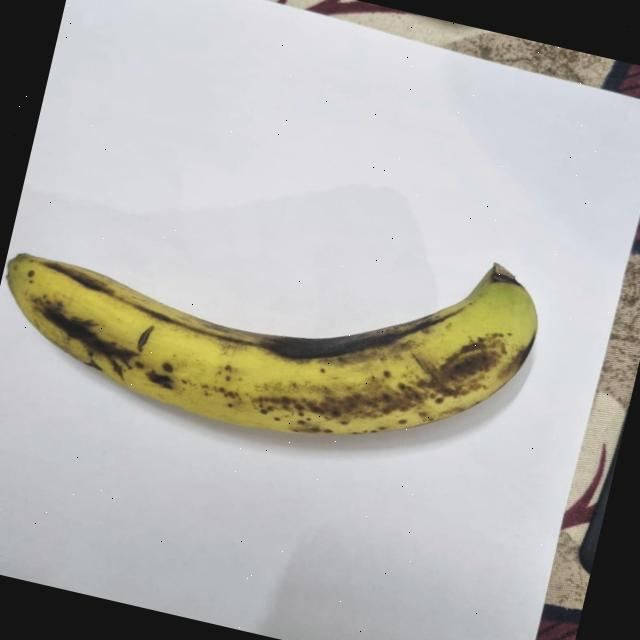Overripe: (0, 135, 577, 514)
